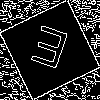E: (25, 25, 71, 79)
